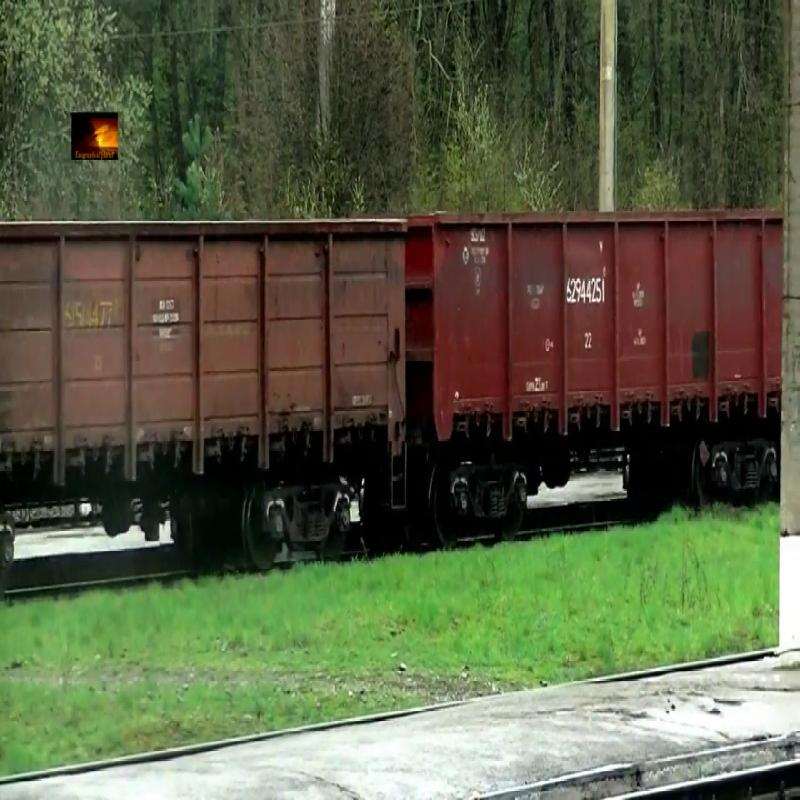train: (1, 216, 409, 492), (408, 215, 788, 448)
